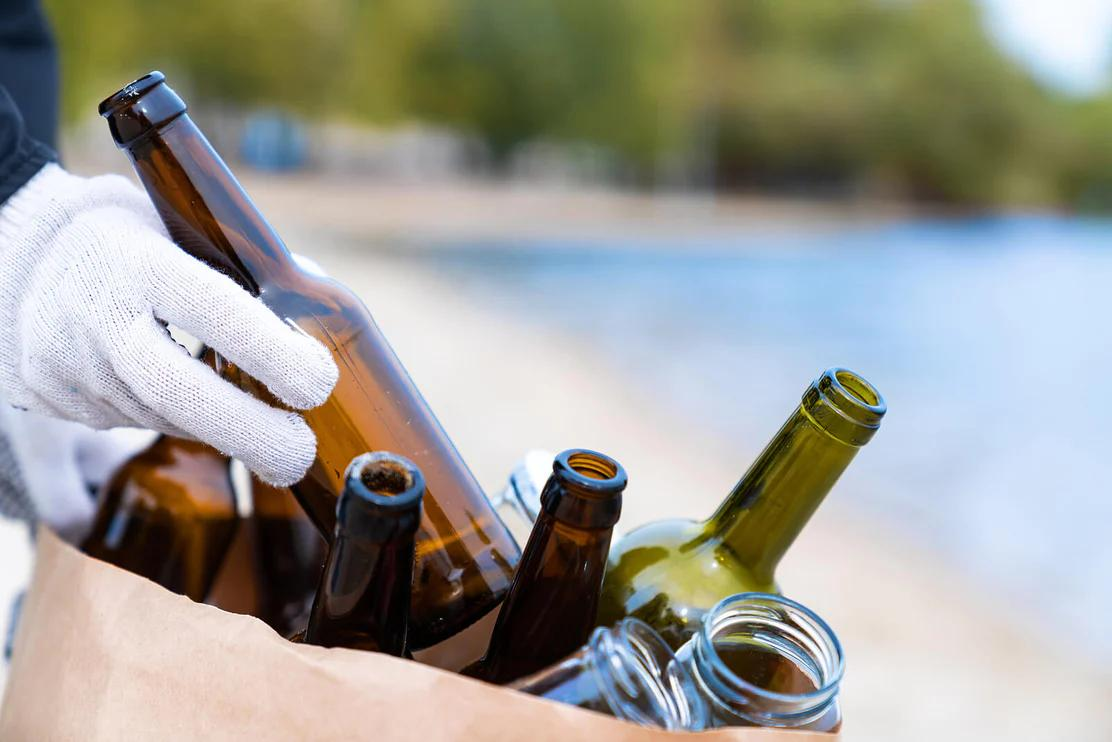glass: (84, 76, 523, 661), (620, 359, 884, 625), (496, 591, 846, 742), (476, 451, 622, 682)
